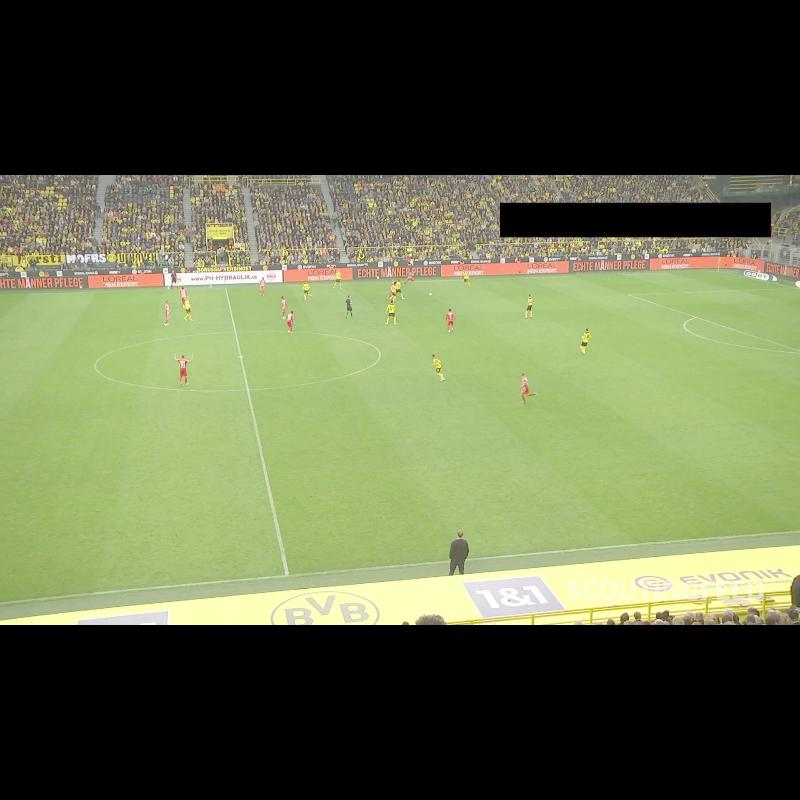cross_recipient_zone: (629, 287, 800, 351)
crossing_player_zone: (494, 271, 789, 299), (779, 398, 800, 412)
pitch: (0, 271, 800, 603)
